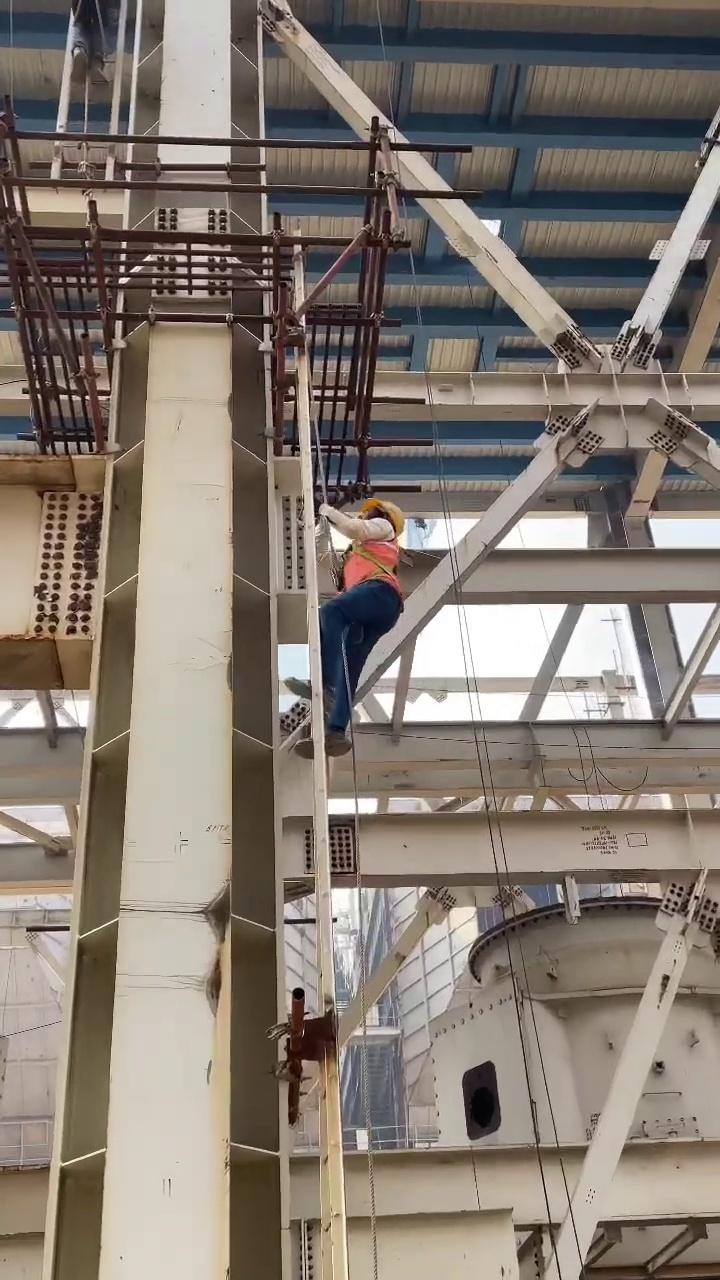Helmet: (364, 499, 405, 534)
Person: (290, 498, 404, 748)
Safety_Harness: (347, 539, 402, 592)
Safety_shoes: (286, 675, 334, 705), (296, 732, 348, 758), (70, 50, 88, 87), (90, 68, 110, 93)
